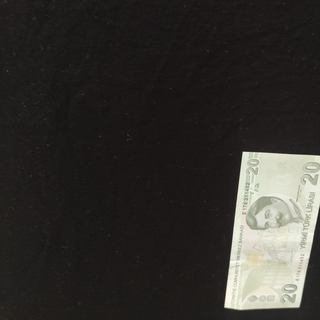20TLBack: (223, 150, 320, 311)
